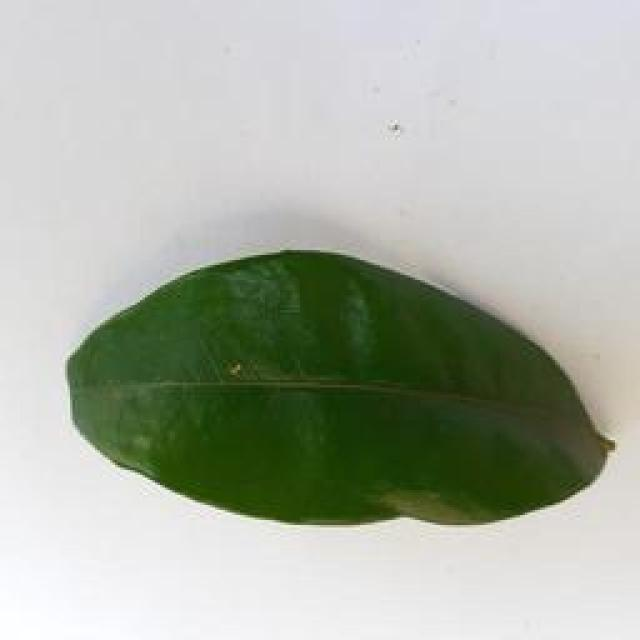Healthy: (68, 253, 612, 524)
